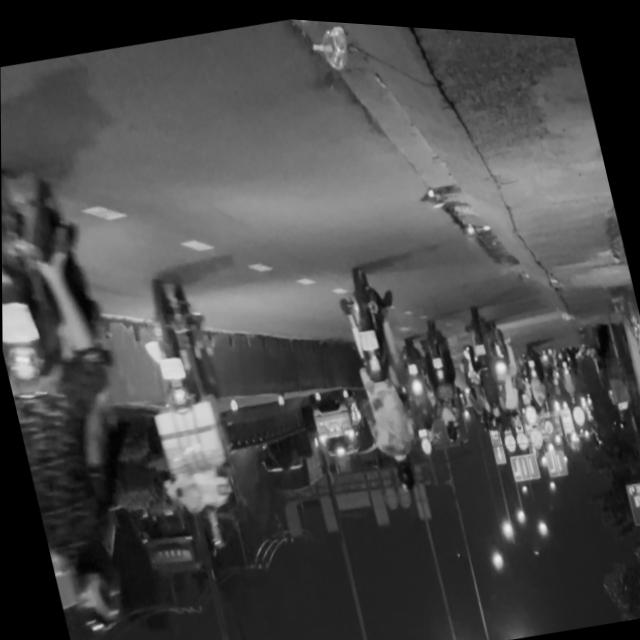helmet: (62, 536, 127, 626), (197, 500, 230, 550)
licenseplate: (1, 142, 177, 638), (114, 256, 273, 559)
nohelmet: (2, 297, 37, 349), (156, 353, 184, 381)
